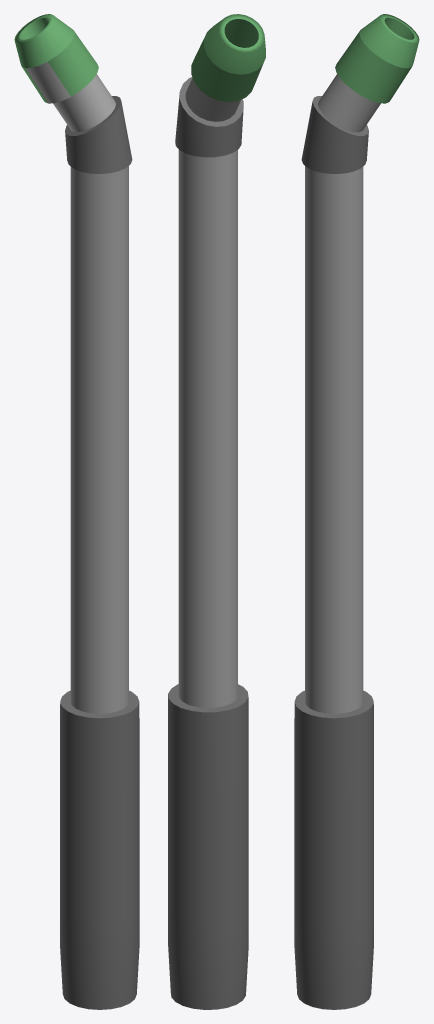
The model's file is Sprayer2.fbx.
3 renders of one model, left to right at view 1: azimuth 90°, elevation 25°; view 2: azimuth 210°, elevation 25°; view 3: azimuth 270°, elevation 25°, orthographic. The views are drawn at different scales.
Parts seen in each view (by area): view 1: pCylinder1; view 2: pCylinder1; view 3: pCylinder1.
Part boxes in pixels (bbox=[...]): pCylinder1: bbox=[14, 14, 139, 1009]; pCylinder1: bbox=[168, 14, 265, 1009]; pCylinder1: bbox=[294, 14, 419, 1009].
Size of the model in its own units: 0.3788 by 5.15 by 0.5962.
